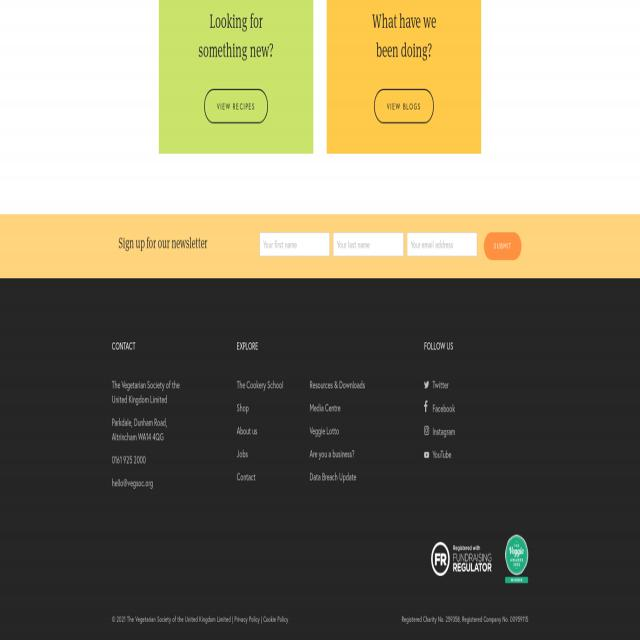button: (204, 89, 268, 123), (374, 89, 434, 123), (431, 542, 491, 576), (505, 535, 528, 583), (484, 232, 522, 260), (424, 426, 429, 435), (424, 401, 428, 412), (424, 382, 429, 388), (424, 452, 429, 458)
field: (333, 232, 404, 257), (260, 232, 330, 257), (407, 232, 477, 257)
